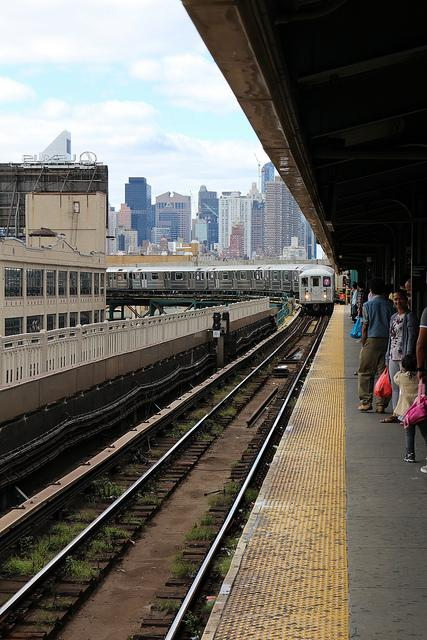Train: (107, 262, 335, 306)
